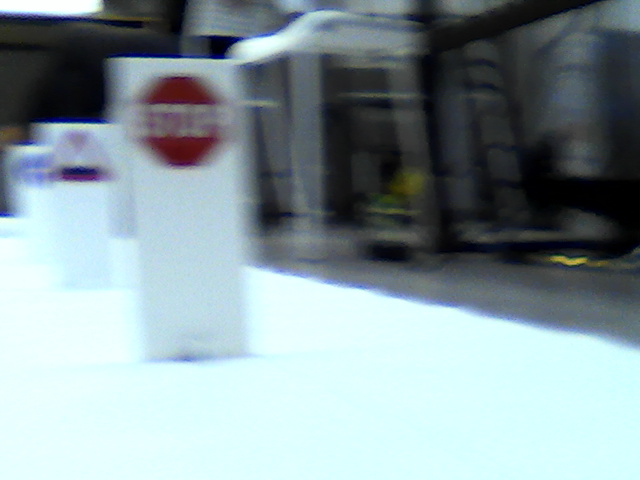Stop: (143, 70, 225, 164)
